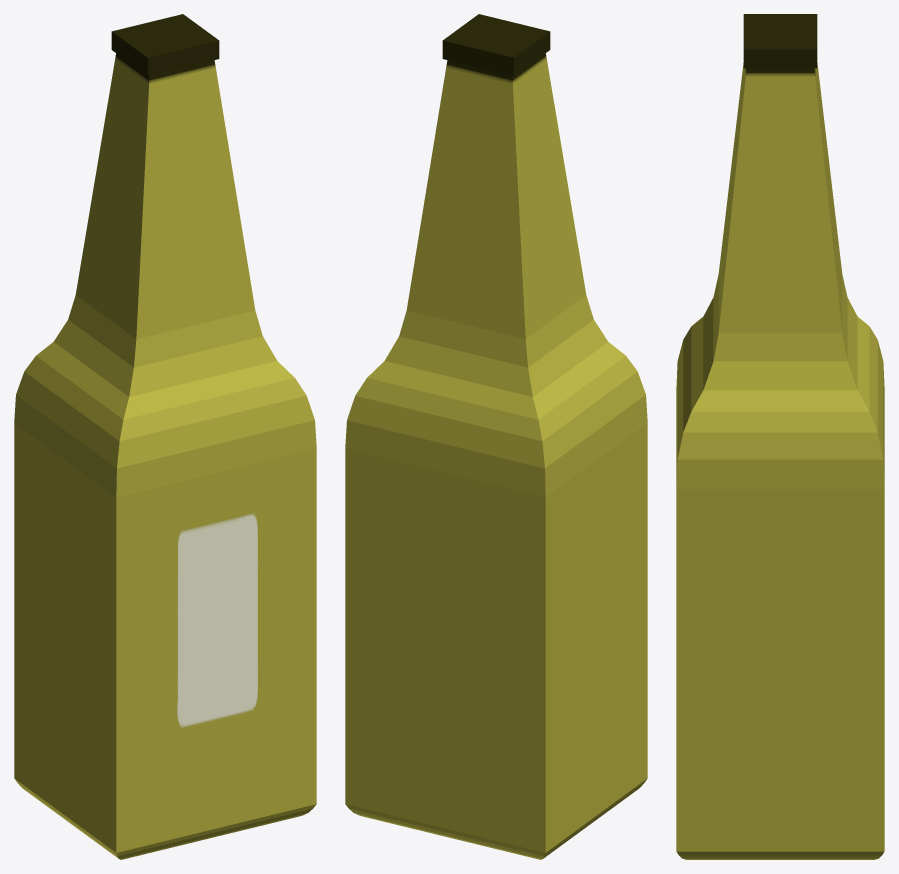
The model's file is Collectible Item.fbx_Beer.fbx.
3 views of the same model, side by side, from view 1: azimuth 30°, elevation 25°; view 2: azimuth 150°, elevation 25°; view 3: azimuth 270°, elevation 25° (orthographic).
Visible parts, largest first — view 1: Beer; view 2: Beer; view 3: Beer.
Part boxes in pixels (<box>): Beer: <box>14,14,316,859</box>; Beer: <box>345,14,647,859</box>; Beer: <box>676,14,884,859</box>.
Bounding box in the file's own units: 1.11 × 4.07 × 0.9797.
Materials: 1 (1 with a texture image).
